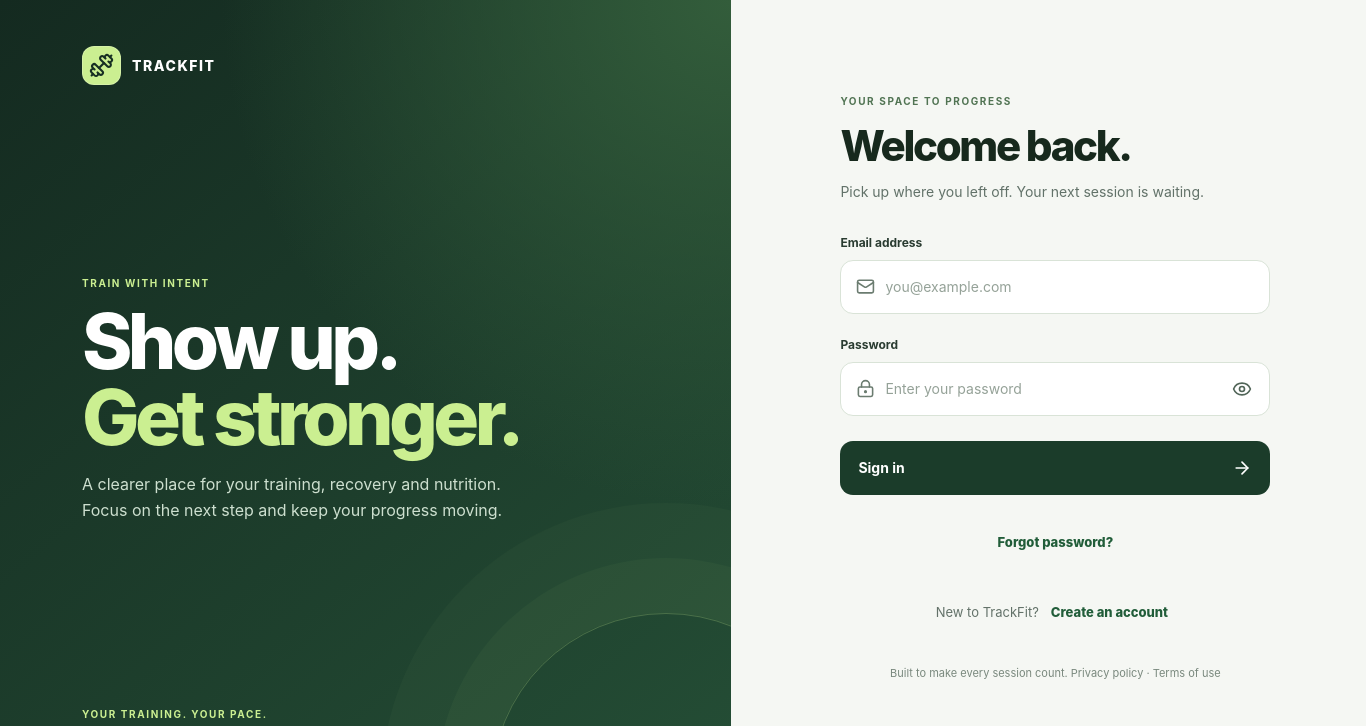
Scenario: TrackFit account password setup › shows a sign-up checklist and confirm-password field
Click the button "Create an account": click(1109, 612) [1044,590,1175,634]
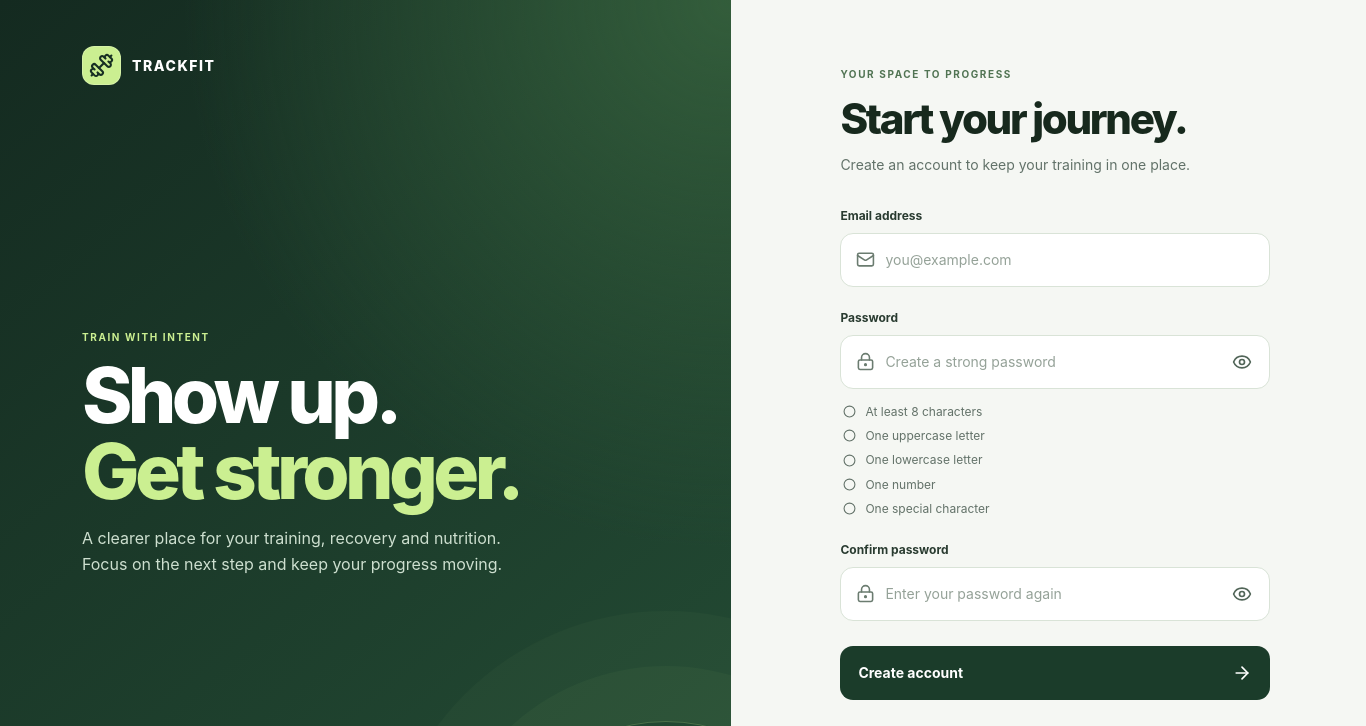
Check: the password field labelled "Confirm password" is shown, box [885,568,1210,620]
Check: the text "At least 8 characters" is shown, box [865,403,982,420]
Check: the text "One uppercase letter" is shown, box [865,427,985,444]
